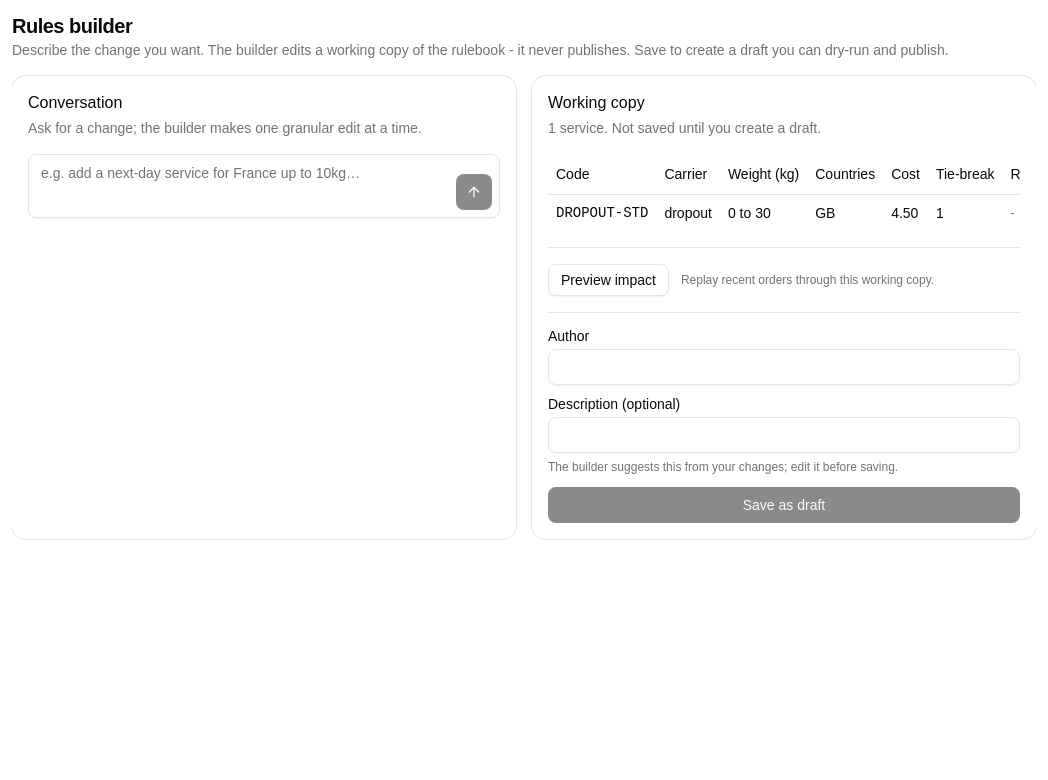
Test: BuilderPage › does not overwrite a description the operator has typed
Check: the text "DROPOUT-STD" is shown, box [548,194,656,230]
In the field labelled "Description (optional)": (784, 434) [548,416,1020,452], type "My own note"
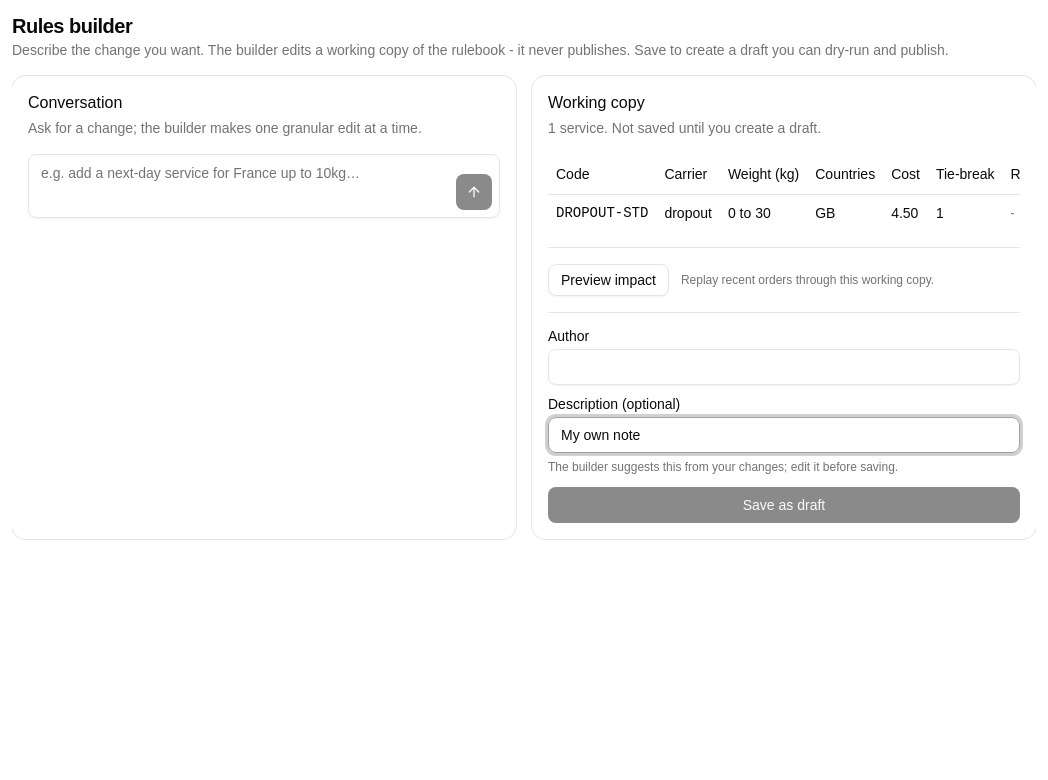
In the text box named "message the rules builder": (264, 186) [28,154,500,218], type "add france"
Then press Enter
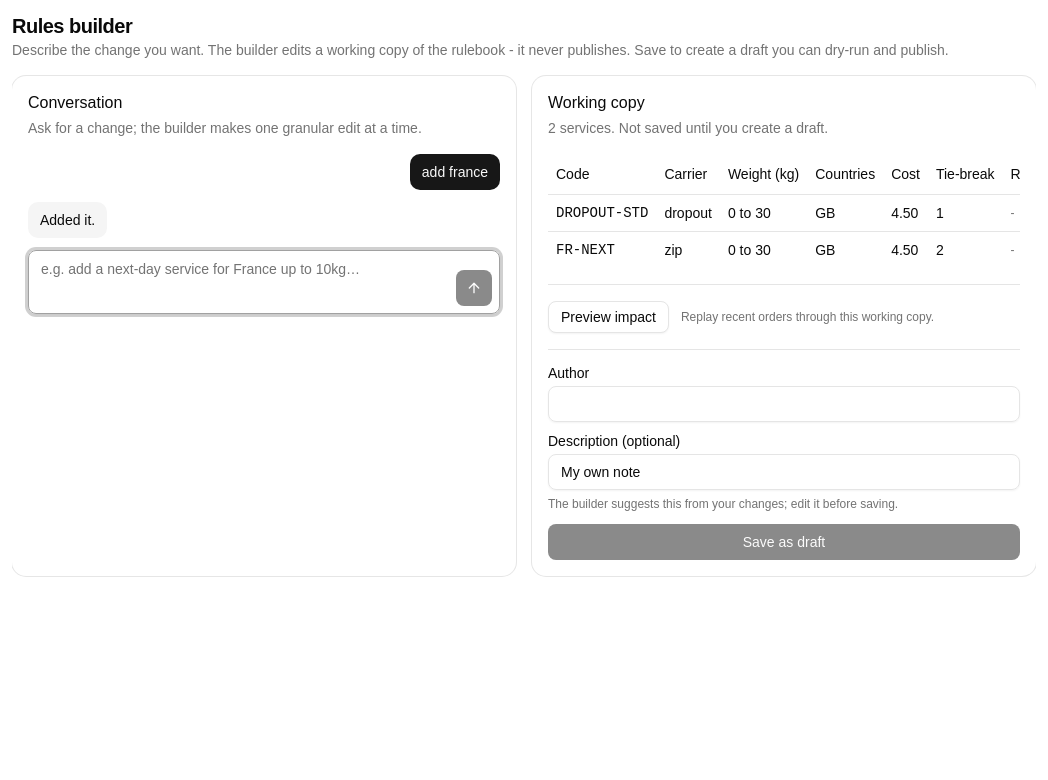
Check: the text "Added it." is shown, box [28,202,107,238]
